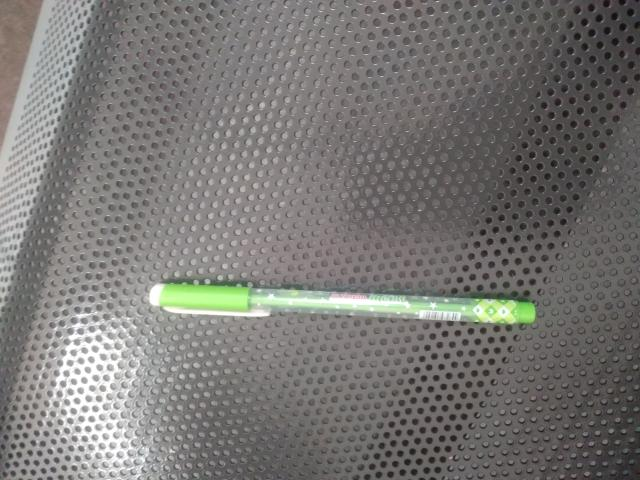PEN: (123, 144, 214, 480)
